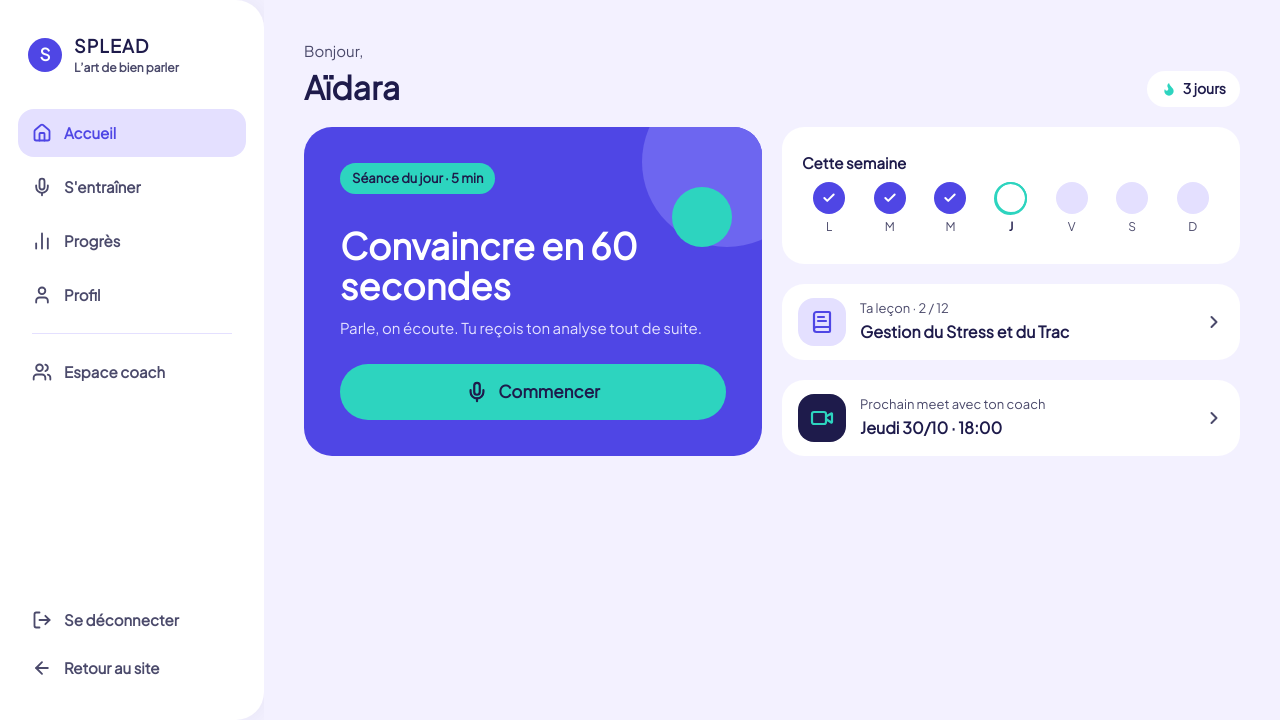
écrans fidèles à la maquette › un lien change d’écran sans recharger la page
The width and height of the screenshot is (1280, 720).
Click the link "Commencer" at (533, 392), box x1=340 y1=364 x2=726 y2=420
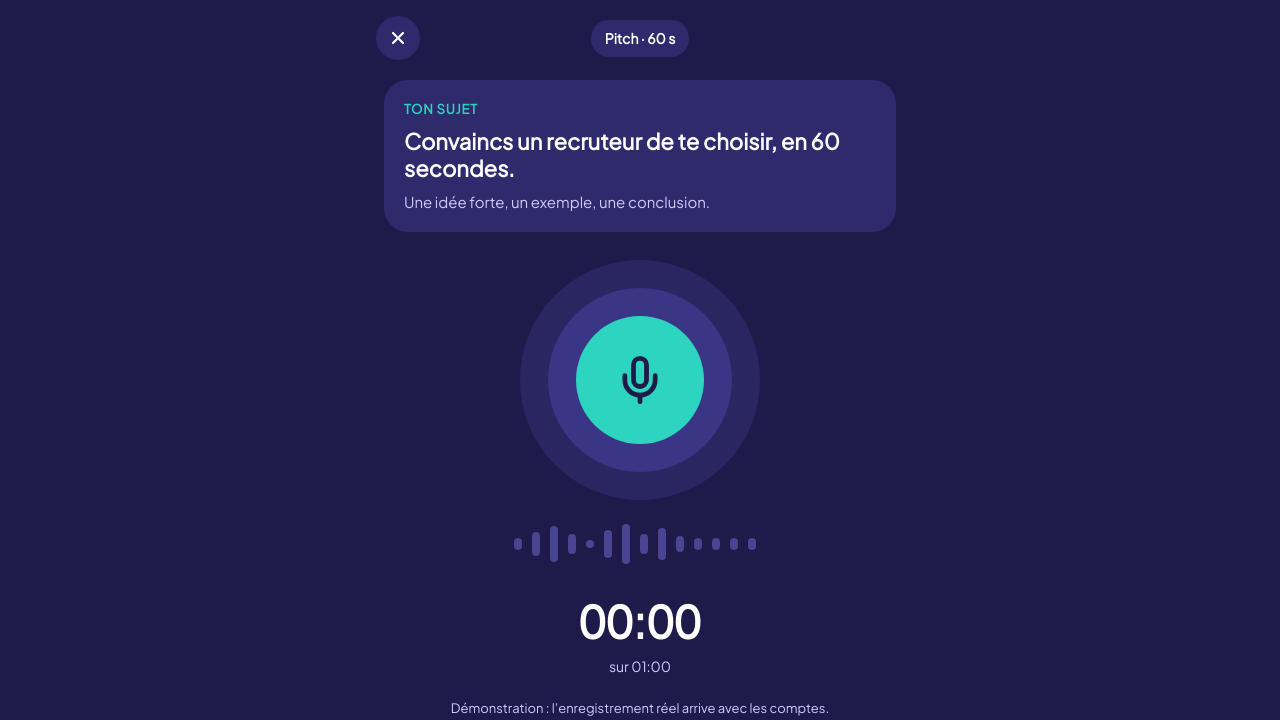
Now the text "Ton sujet" is shown, box x1=404 y1=101 x2=478 y2=117
